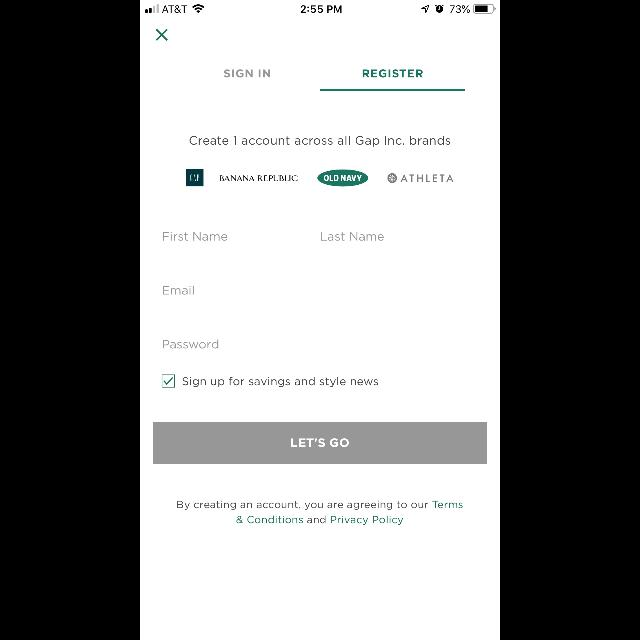checkbox: (162, 374, 174, 388)
icon: (156, 29, 168, 41)
image: (317, 170, 368, 187), (186, 170, 204, 187), (388, 173, 397, 183)
input: (162, 286, 478, 304), (162, 340, 478, 358), (320, 232, 478, 250), (162, 232, 314, 250)
text: (178, 501, 462, 525), (190, 136, 450, 146), (182, 377, 378, 387), (321, 232, 384, 242), (163, 233, 227, 241), (164, 339, 218, 348), (363, 70, 423, 78), (220, 176, 298, 182), (401, 174, 454, 182), (224, 69, 270, 77), (162, 286, 194, 294)
textbutton: (154, 422, 486, 464)
uppertaskbar: (140, 0, 500, 14)
